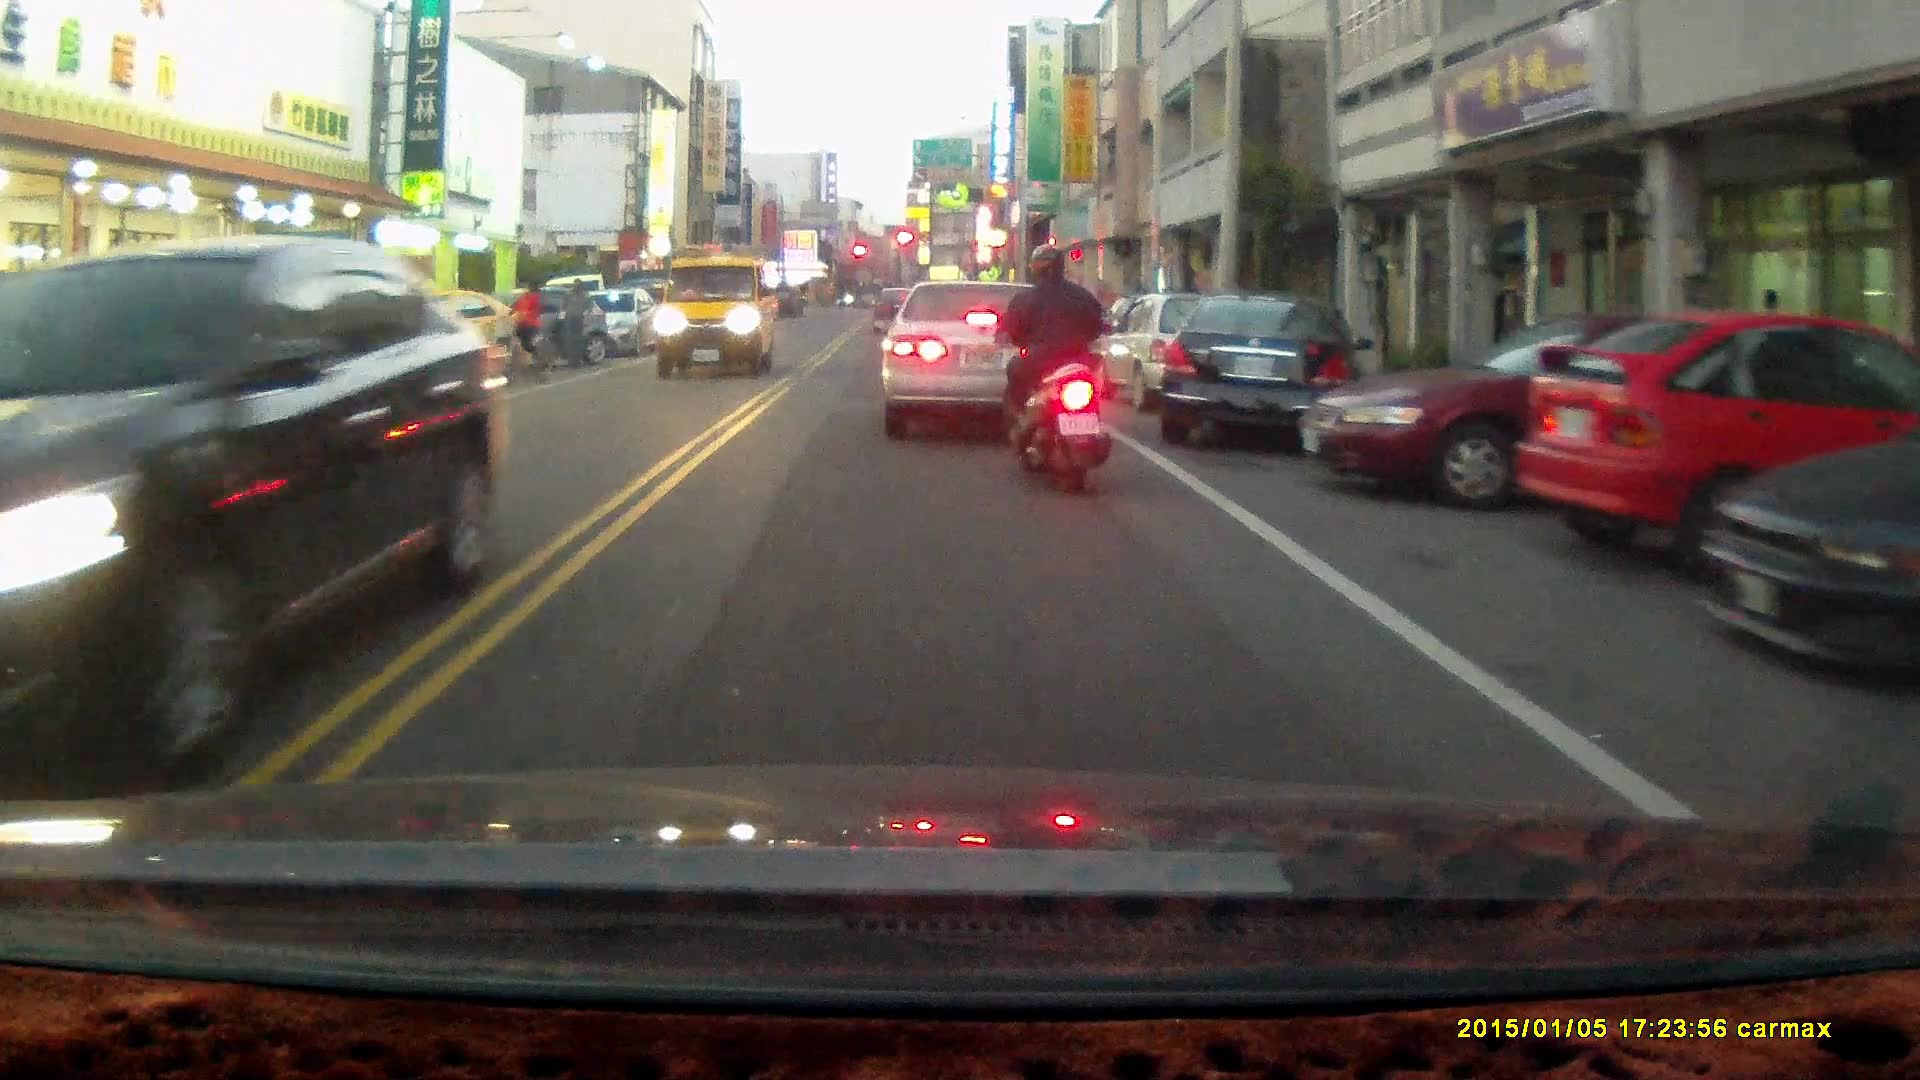pedestrian: (560, 278, 594, 372)
rider: (983, 243, 1118, 499), (488, 278, 557, 388)
vehicle: (1, 243, 494, 768), (1513, 309, 1910, 583), (1303, 307, 1771, 513), (1694, 361, 1920, 692), (1149, 292, 1355, 449), (880, 275, 1071, 429), (369, 291, 539, 384), (652, 253, 772, 381)
